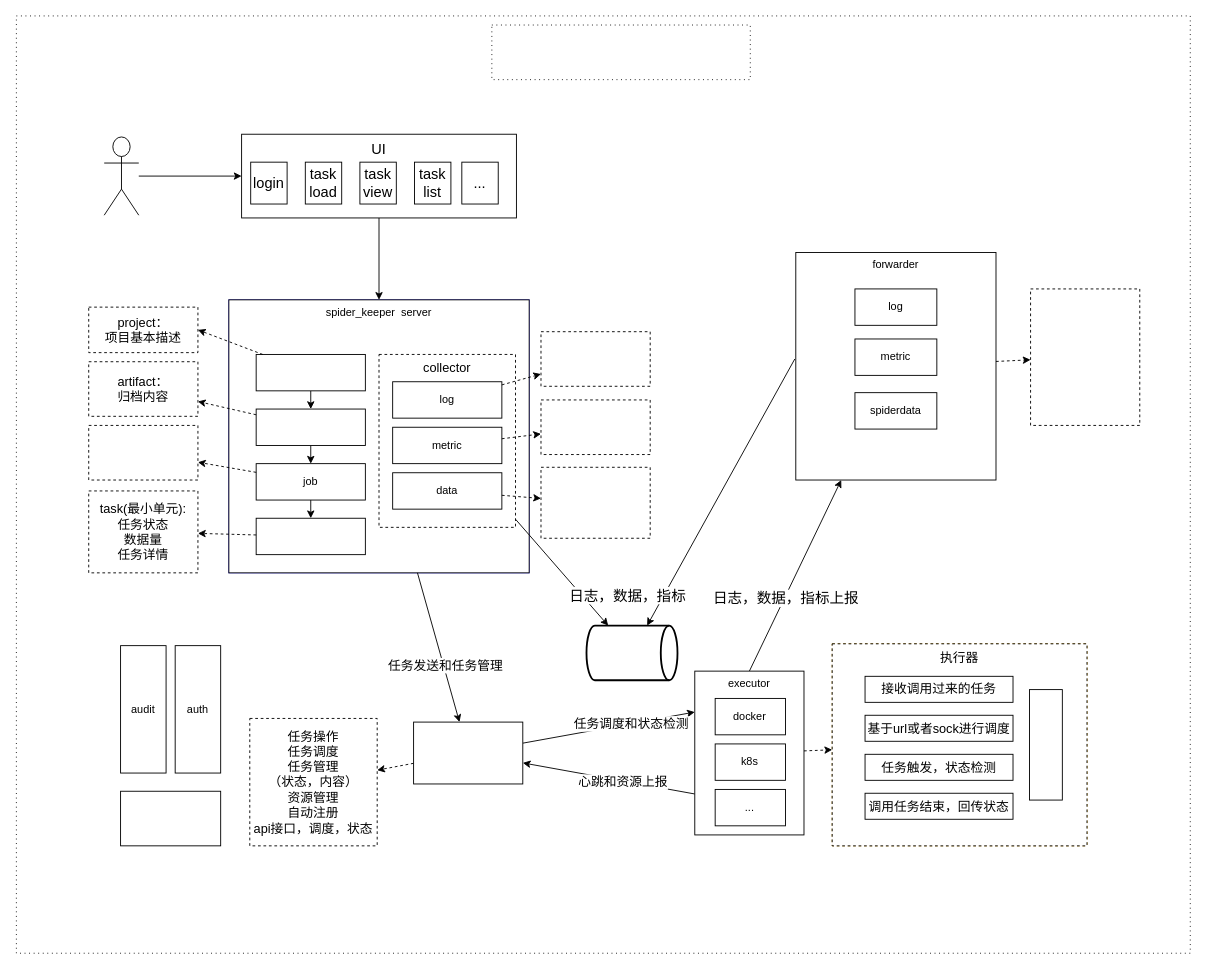
Some shapes in this 1206 by 969 pixel diagram are drawn without their labels. Here are the shapes that lost their labels. From the top down, the centre of each, then its label:
(x=620, y=52): 数据采集平台应用架构图
(x=121, y=175): Actor
(x=310, y=372): project
(x=595, y=358): 日志包含： 日志对应task 日志内容
(x=1085, y=356): 基于任务，将对应的数据，推送到消息队列当中 提供三个接口 包含日志，指标，数据
(x=310, y=426): artifact
(x=595, y=427): 指标包含： 下载相关的指标 上传到prometheus
(x=143, y=452): job: 执行命令 存储开启状态
(x=595, y=502): 数据包含： 数据库类型 数据更新格式 数据字段
(x=310, y=536): task
(x=631, y=652): 消息队列
(x=468, y=752): scheduler (apscheduler实现)
(x=1045, y=744): 当前环境资源上报
(x=170, y=818): api gateway
